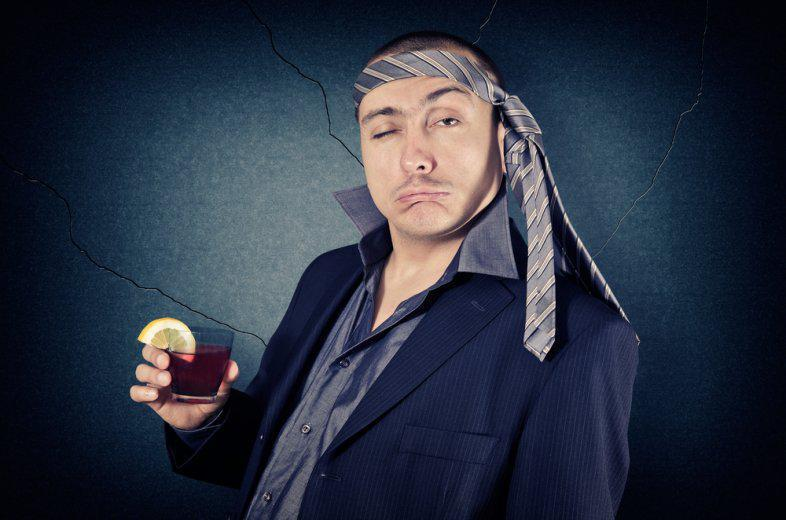Drunk: (363, 84, 483, 238)
